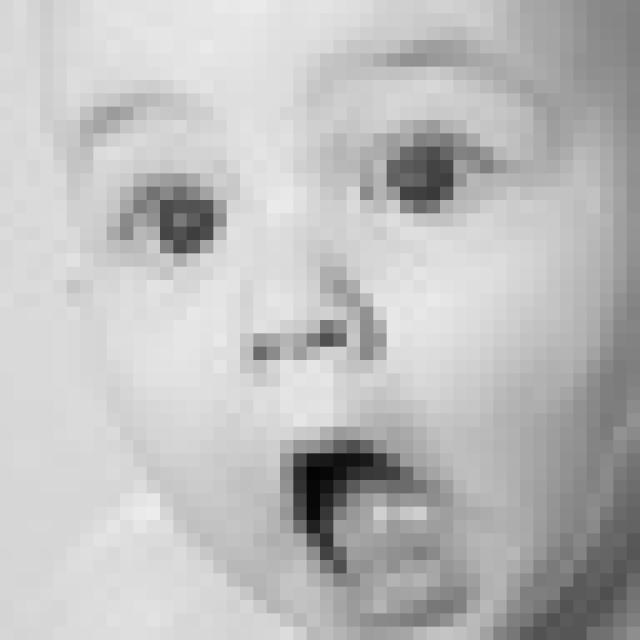surprise: (74, 37, 570, 640)
